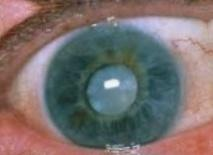eye: (44, 26, 182, 149)
